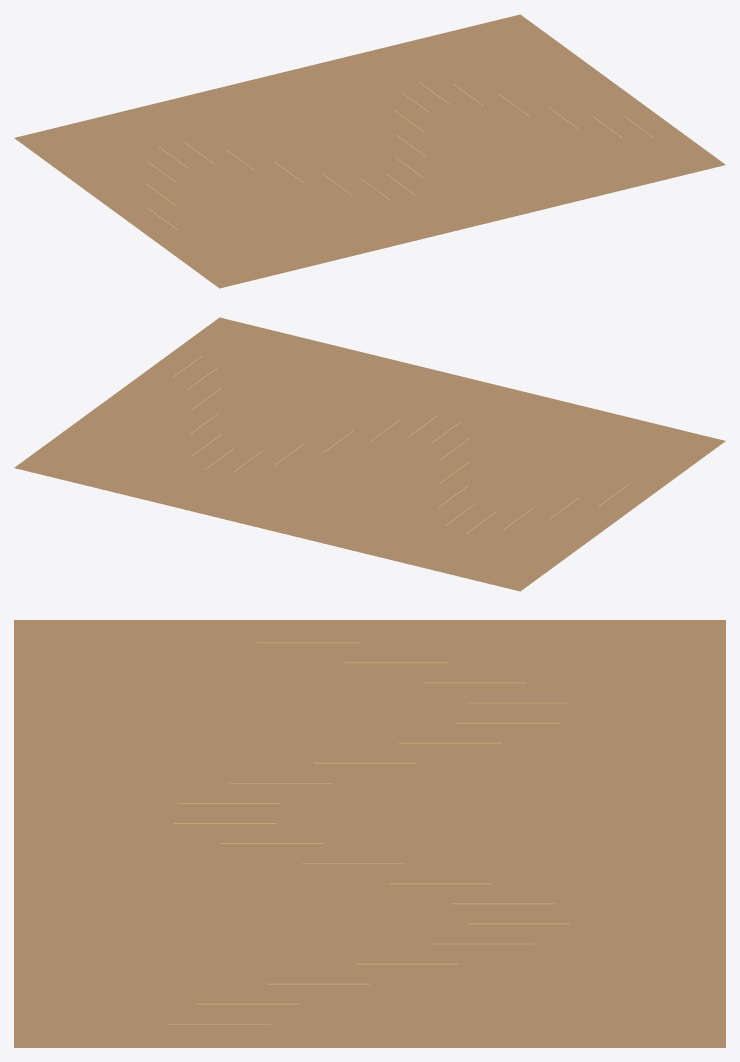
The model's file is 252_L118_L15_LayerReference.glb.
3 renders of one model, top to bottom at view 1: azimuth 30°, elevation 25°; view 2: azimuth 150°, elevation 25°; view 3: azimuth 270°, elevation 25°, orthographic. The views are drawn at different scales.
Parts seen in each view (by area): view 1: 0000__PSMAT__copper_dark; view 2: 0000__PSMAT__copper_dark; view 3: 0000__PSMAT__copper_dark.
Boxes of the visible parts, left/top/right/bottom form: 0000__PSMAT__copper_dark: left=14, top=14, right=725, bottom=288; 0000__PSMAT__copper_dark: left=14, top=317, right=725, bottom=591; 0000__PSMAT__copper_dark: left=14, top=620, right=725, bottom=1047.
Size of the model in its own units: 0.472 by 0.000494 by 0.332.
